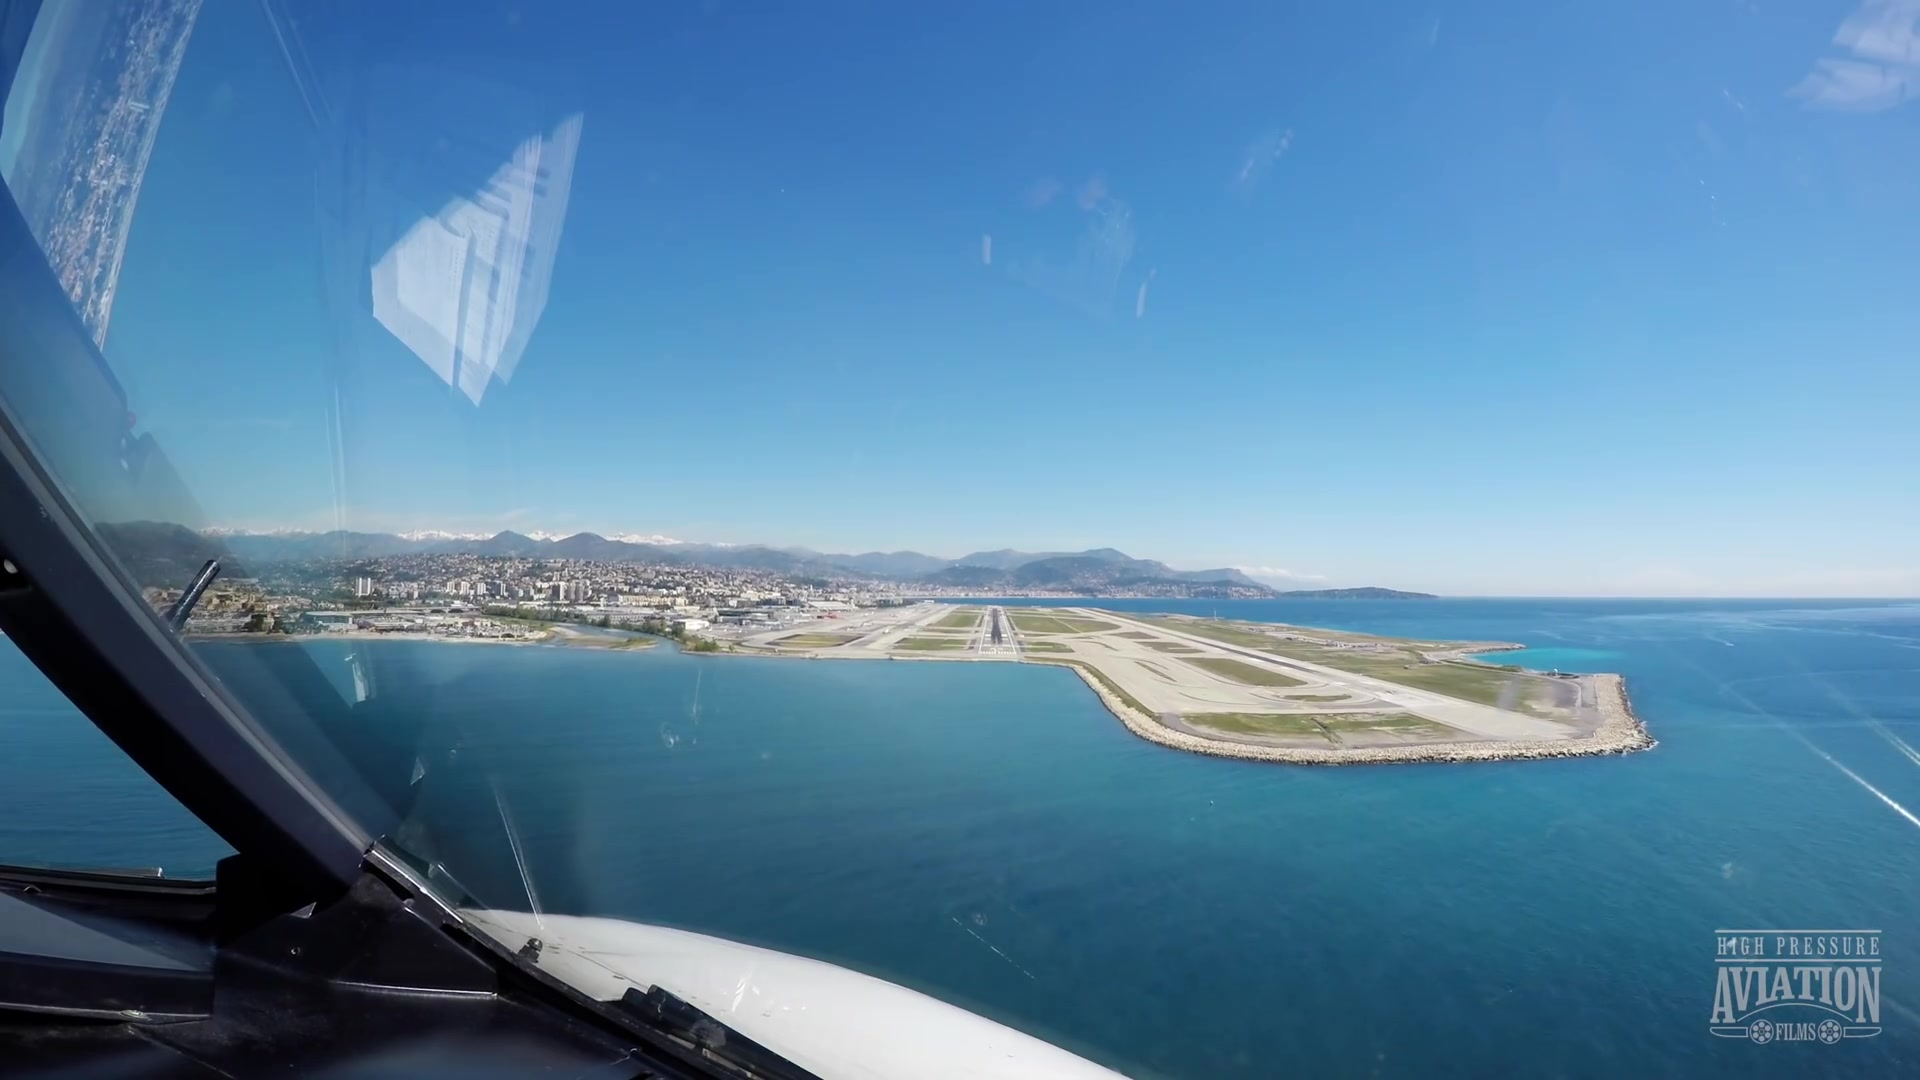entrance: (977, 649, 1014, 657)
runway: (975, 605, 1018, 661)
